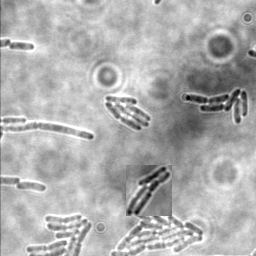Dividing: (1, 123, 95, 142), (8, 41, 35, 52)
Microcolony: (109, 200, 205, 255), (25, 212, 94, 255), (184, 89, 248, 126), (126, 165, 172, 216), (103, 96, 150, 132), (16, 182, 48, 193)
